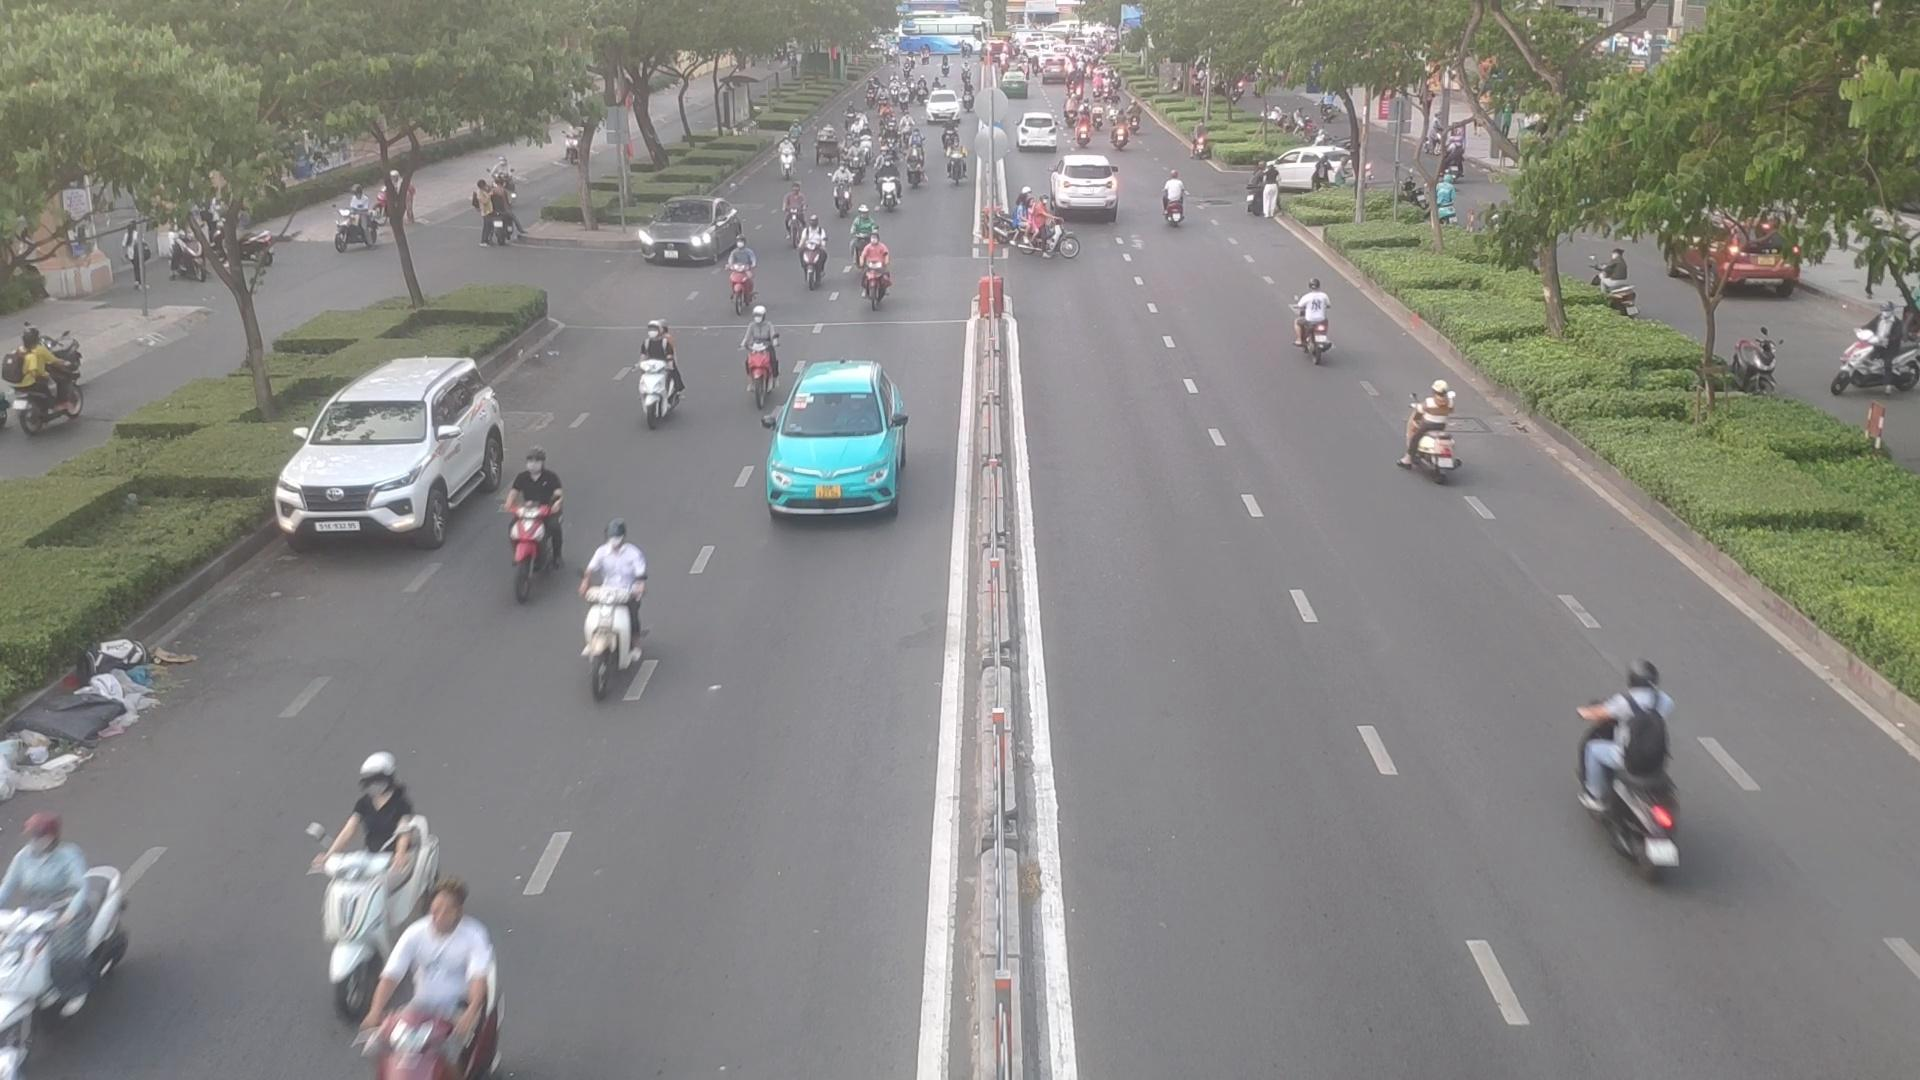car: (276, 359, 512, 551), (764, 357, 910, 516), (633, 196, 745, 265), (1056, 152, 1124, 218), (1265, 146, 1356, 189)
motorbike: (286, 770, 421, 1000), (1553, 663, 1689, 855), (0, 833, 95, 1030), (393, 905, 496, 1068), (582, 526, 655, 690), (510, 465, 567, 596), (634, 320, 694, 423), (1403, 382, 1461, 487), (1009, 194, 1083, 268), (1288, 278, 1338, 376), (721, 233, 767, 318), (796, 203, 829, 280), (775, 179, 812, 241), (742, 313, 774, 381), (769, 141, 806, 185), (852, 204, 880, 258), (831, 167, 858, 222), (1162, 170, 1189, 222), (865, 264, 897, 305), (873, 156, 899, 204), (899, 144, 928, 186), (944, 141, 971, 185), (847, 141, 872, 179), (783, 117, 800, 146)
